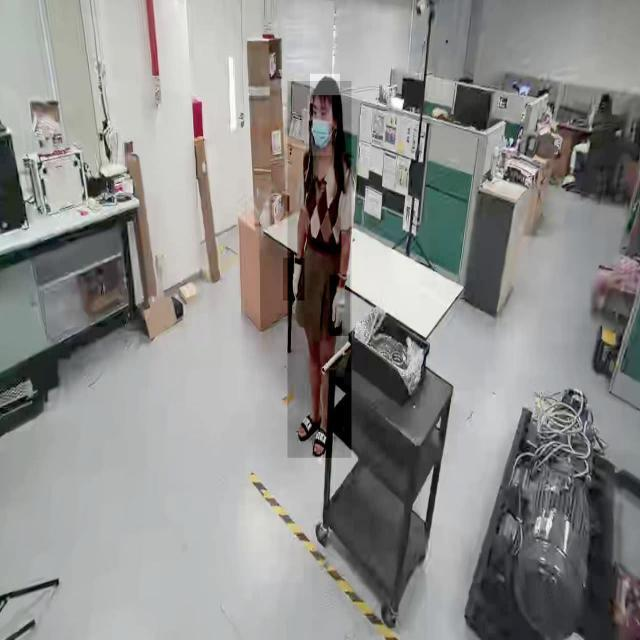gloves: (330, 275, 350, 337), (283, 258, 305, 302)
